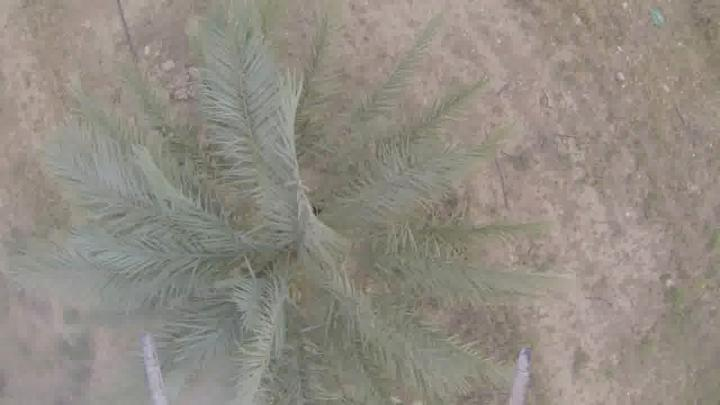Date-Palm-Crown: (130, 81, 426, 357)
